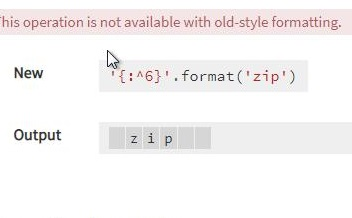cursor: (106, 49, 120, 69)
